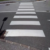zebra: (4, 3, 45, 37)
